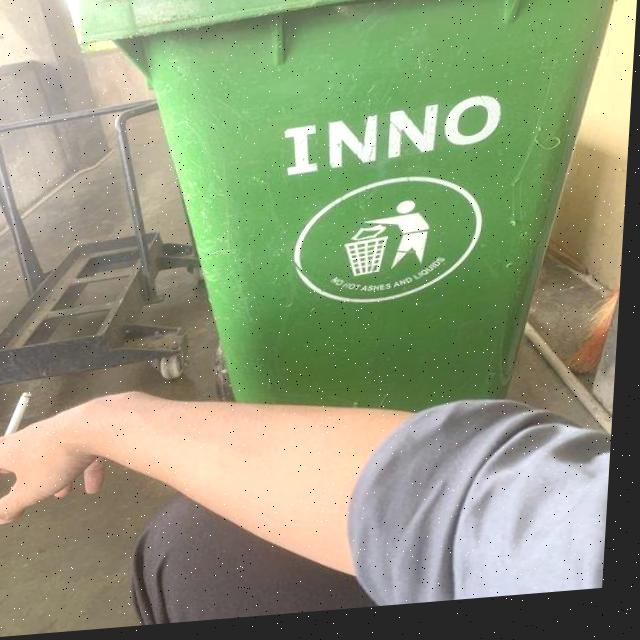cigarette: (0, 391, 37, 474)
